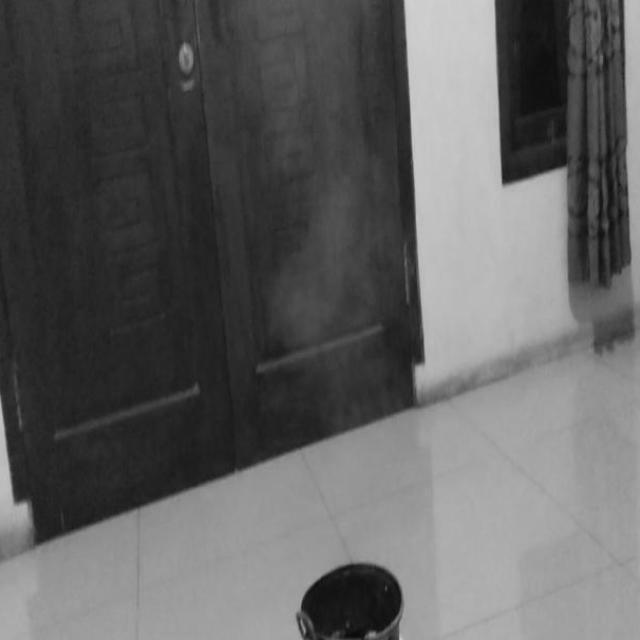fire: (266, 180, 404, 398), (259, 0, 376, 177)
